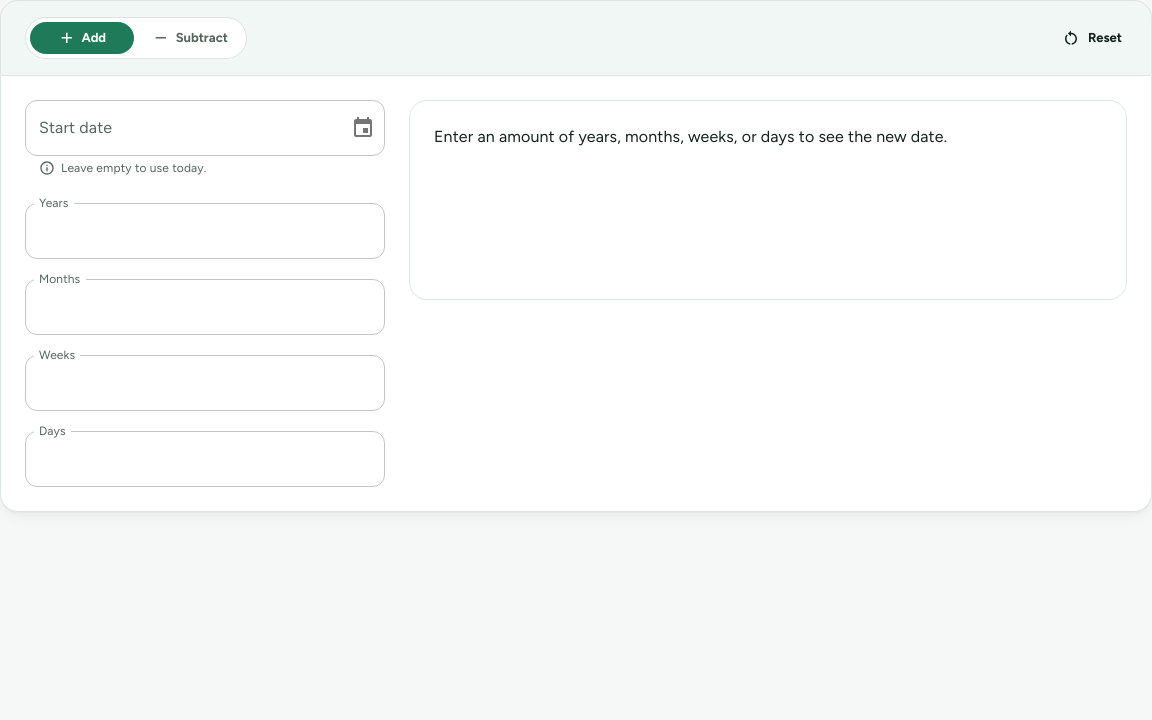
Test: DateMathTool › adds years, months, weeks, and days
The width and height of the screenshot is (1152, 720).
Type "1" into the number field labelled "Years" at (205, 231), box [25,203,385,259]
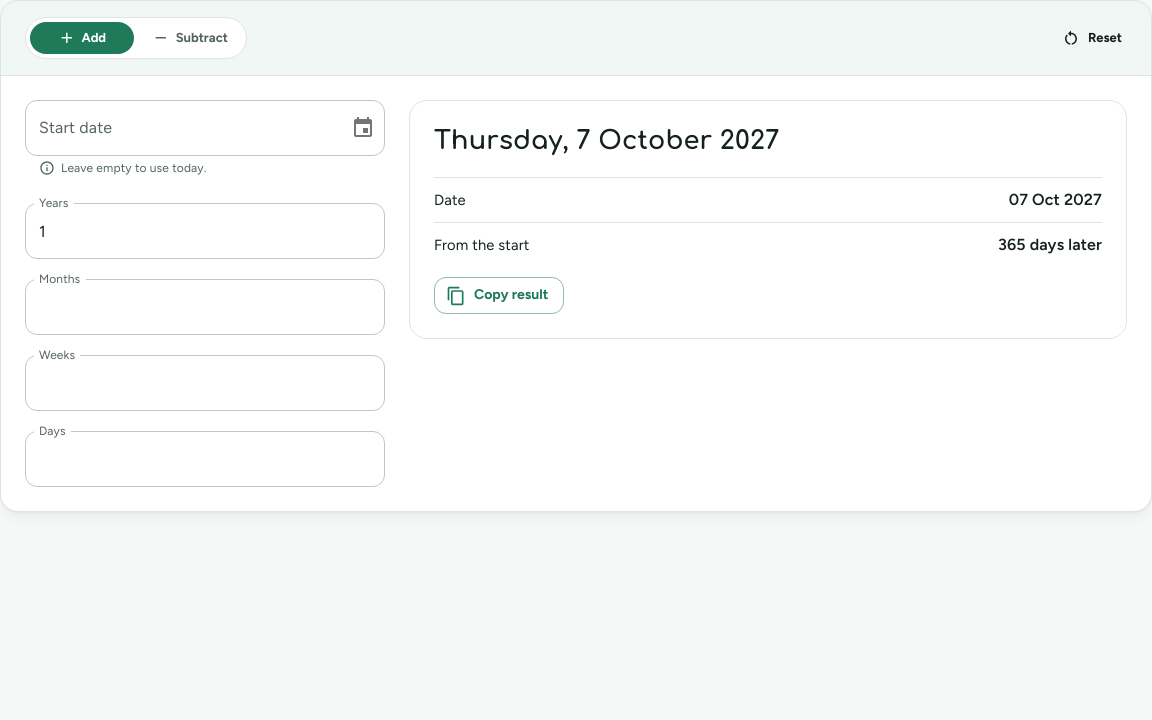
Type "2" into the number field labelled "Months" at (205, 307), box [25,279,385,335]
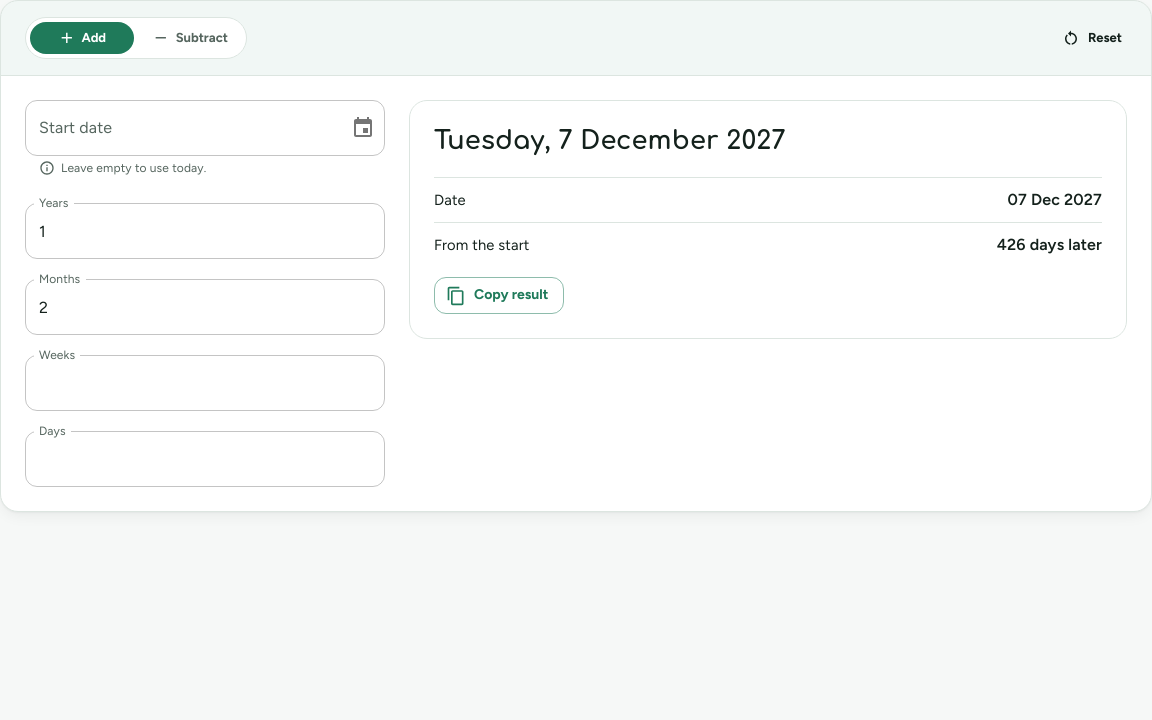
Type "3" into the number field labelled "Weeks" at (205, 383), box [25,355,385,411]
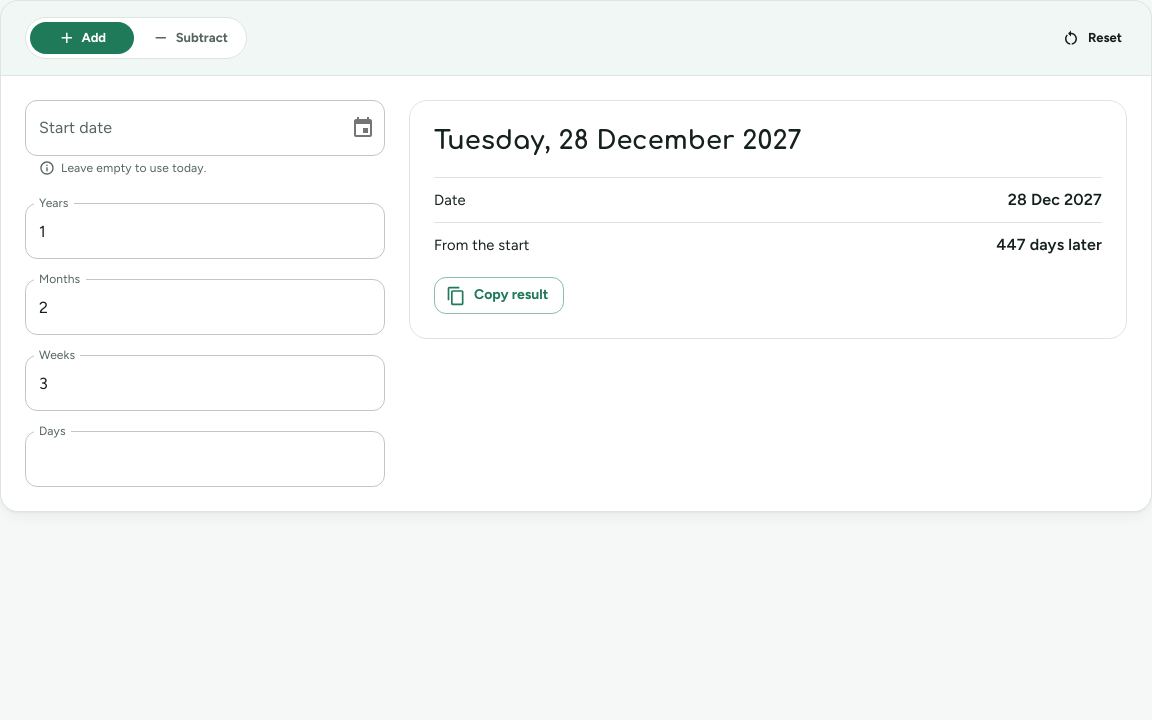
Type "4" into the number field labelled "Days" at (205, 459), box [25,431,385,487]
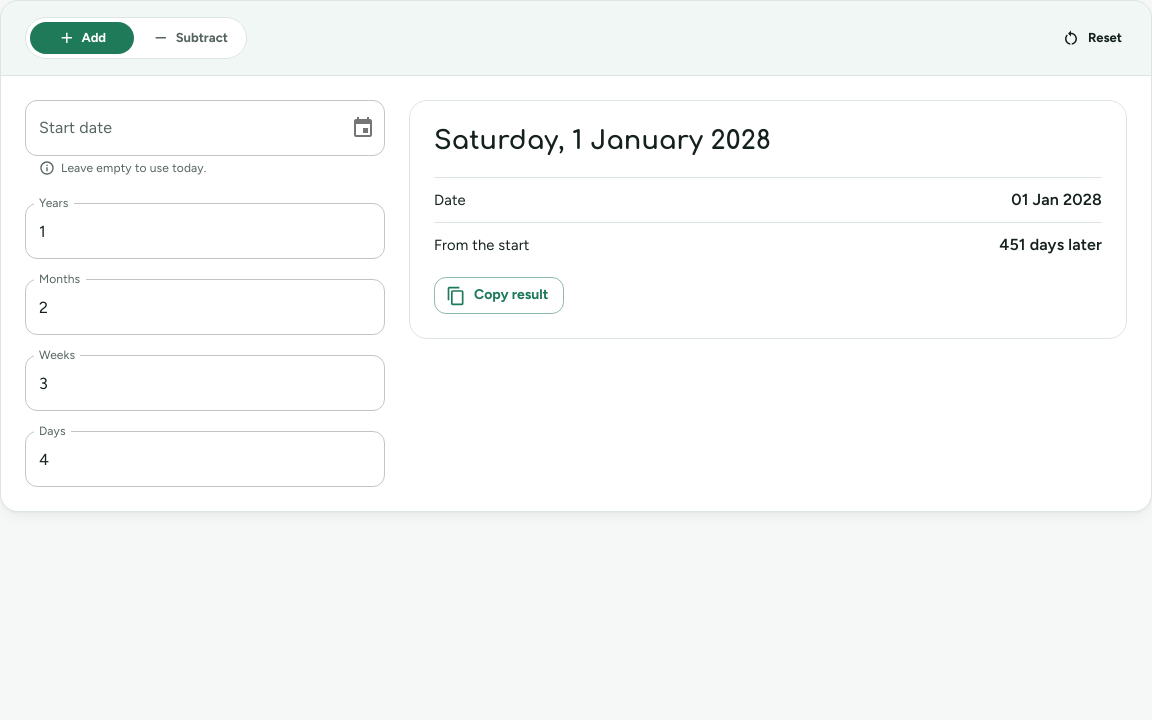
Now the text "Saturday, 1 January 2028" is shown, box [434,126,771,155]
Now the text "451 days later" is shown, box [999,233,1102,257]
